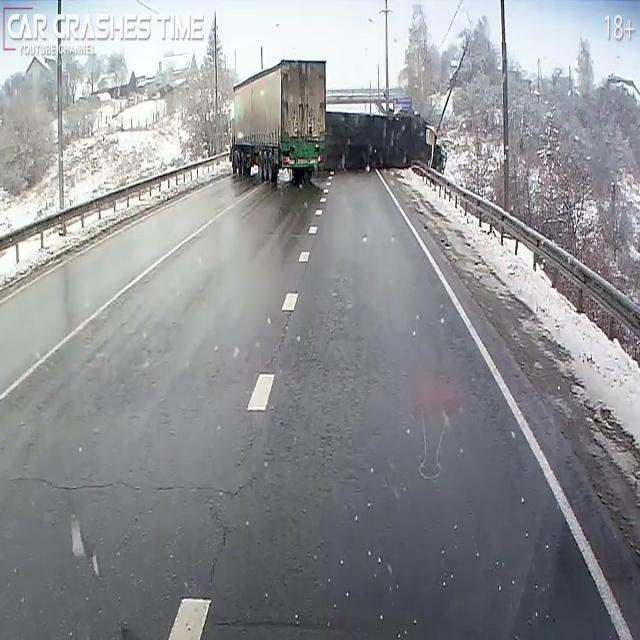severe: (225, 53, 446, 189)
